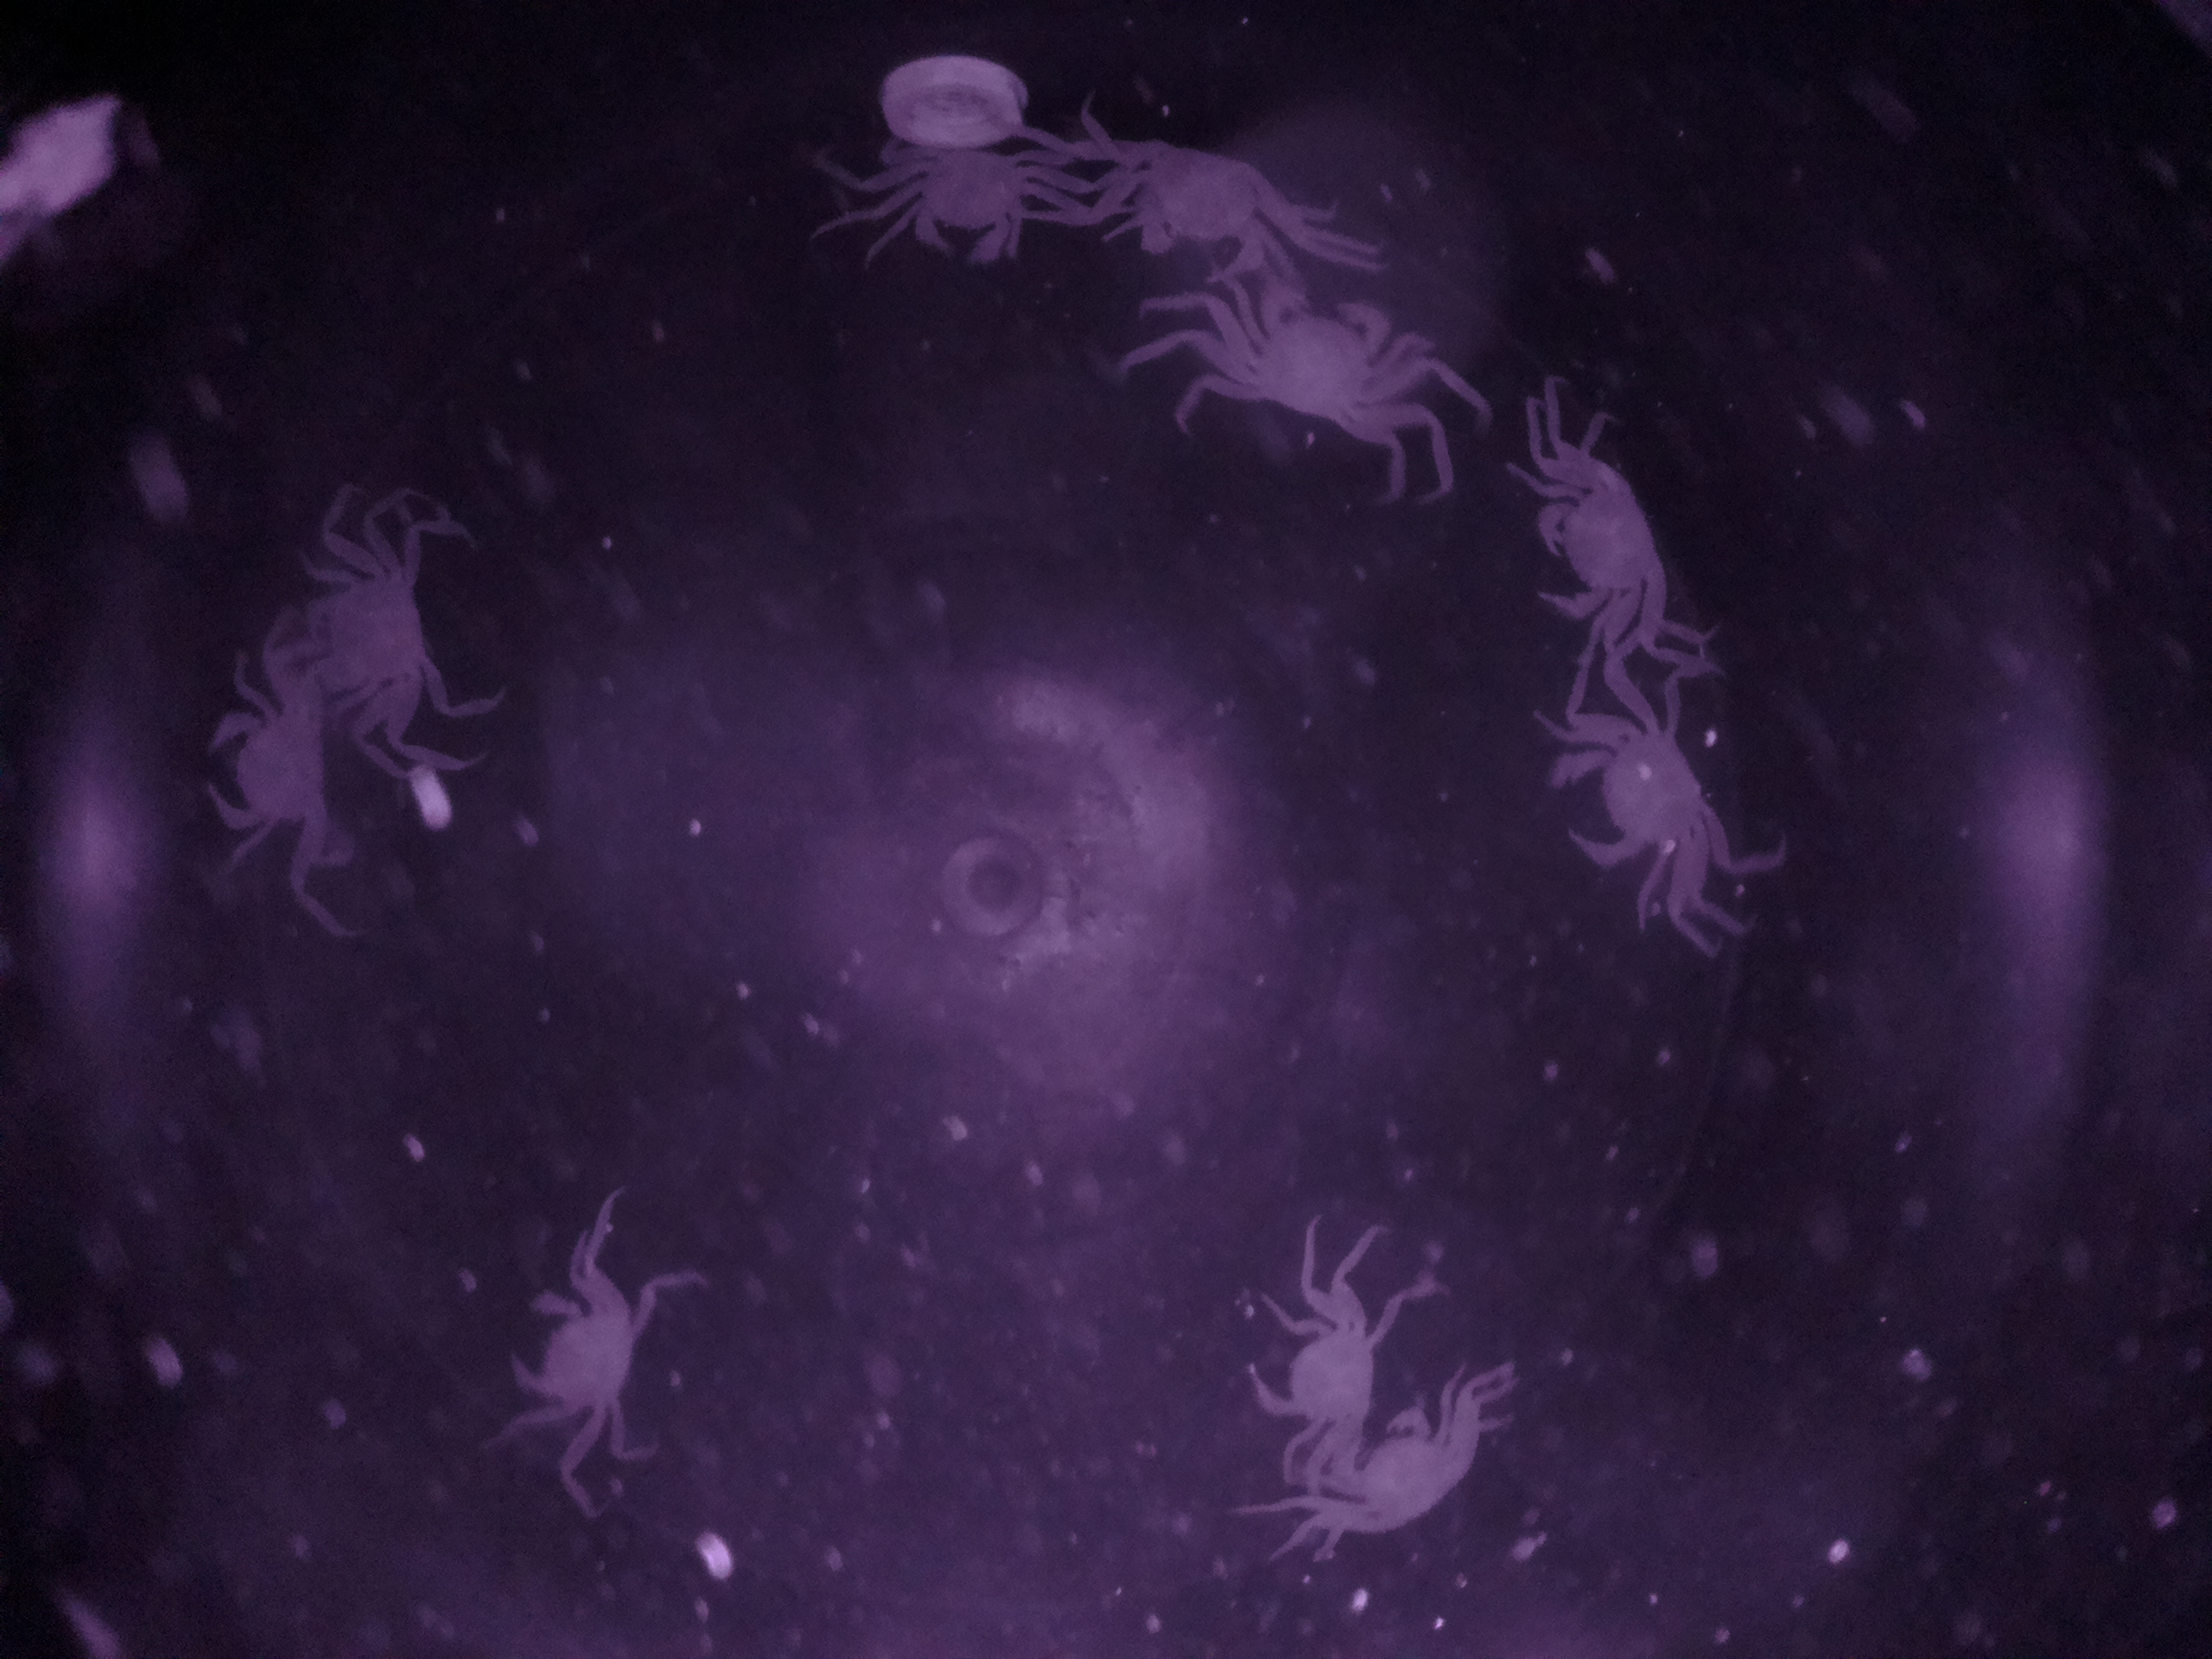Crab: (1529, 690, 1745, 896), (1205, 265, 1414, 472), (261, 537, 467, 725), (1505, 441, 1693, 647), (1233, 1263, 1411, 1455), (178, 673, 345, 868), (488, 1260, 662, 1446), (1101, 122, 1312, 268), (869, 132, 1054, 282), (1339, 1375, 1477, 1556)
